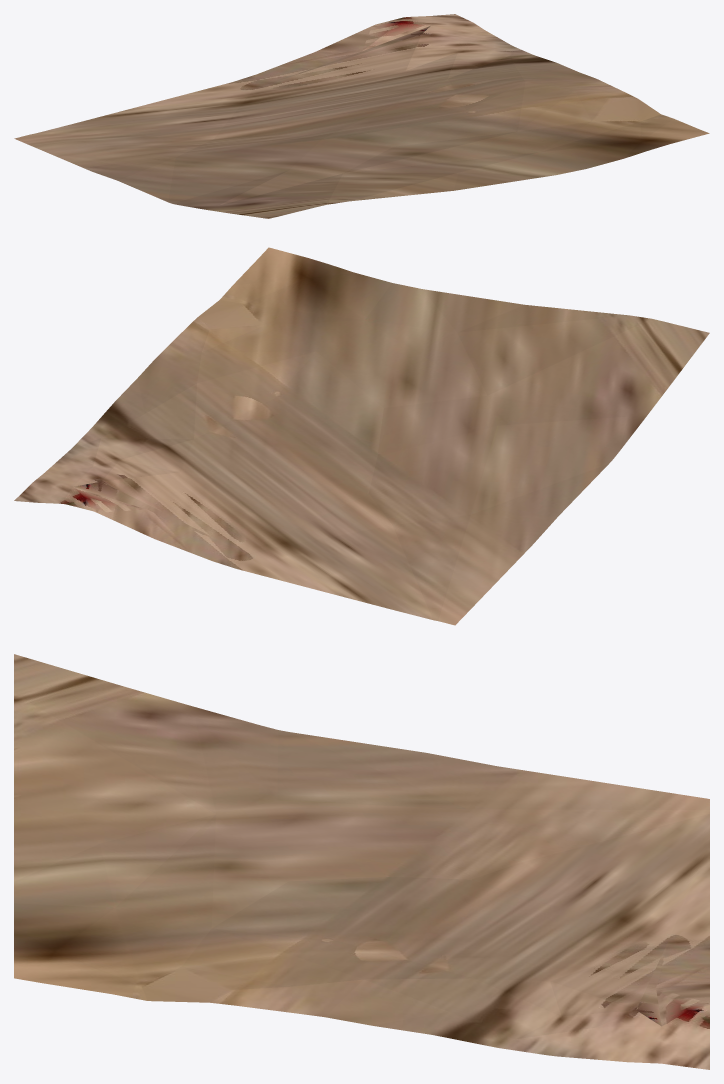
3 renders of one model, top to bottom at view 1: azimuth 30°, elevation 25°; view 2: azimuth 150°, elevation 25°; view 3: azimuth 270°, elevation 25°, orthographic. The views are drawn at different scales.
Size of the model in its own units: 1.04 by 0.2405 by 1.04.
Materials: 3 (3 with a texture image).
